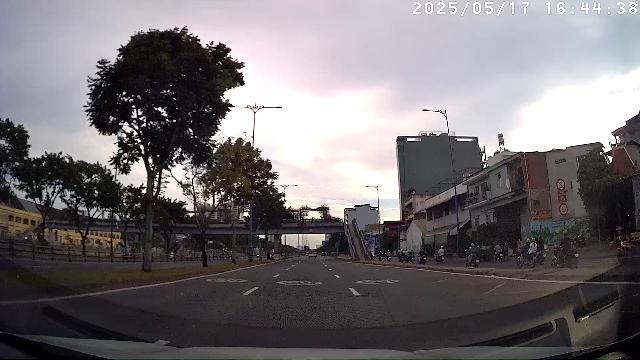127-toc-do-toi-da-50: (559, 203, 568, 216)
